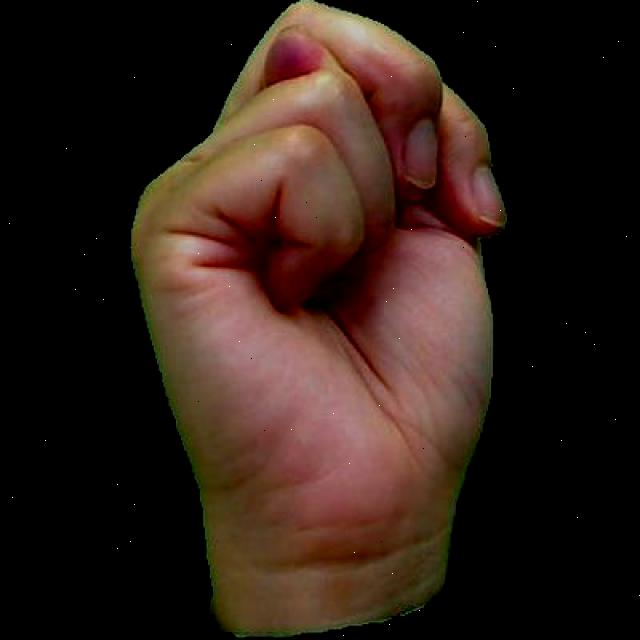n: (124, 0, 510, 637)
